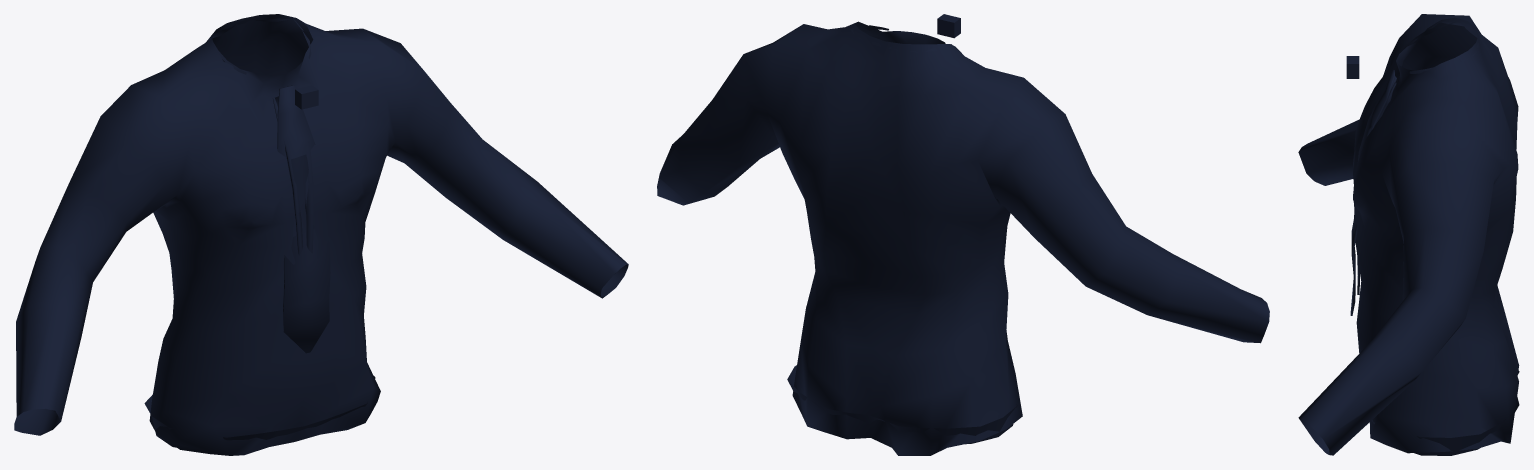
The model's file is suit_jacket.glb.
3 renders of one model, left to right at view 1: azimuth 30°, elevation 25°; view 2: azimuth 150°, elevation 25°; view 3: azimuth 270°, elevation 25°, orthographic. The views are drawn at different scales.
Visible parts, largest first — view 1: suit_jacket; view 2: suit_jacket; view 3: suit_jacket.
Boxes of the visible parts, bbox=[...] form: suit_jacket: bbox=[14, 14, 628, 455]; suit_jacket: bbox=[657, 14, 1269, 455]; suit_jacket: bbox=[1298, 14, 1519, 455].
Size of the model in its own units: 1.08 by 0.666 by 0.3472.
